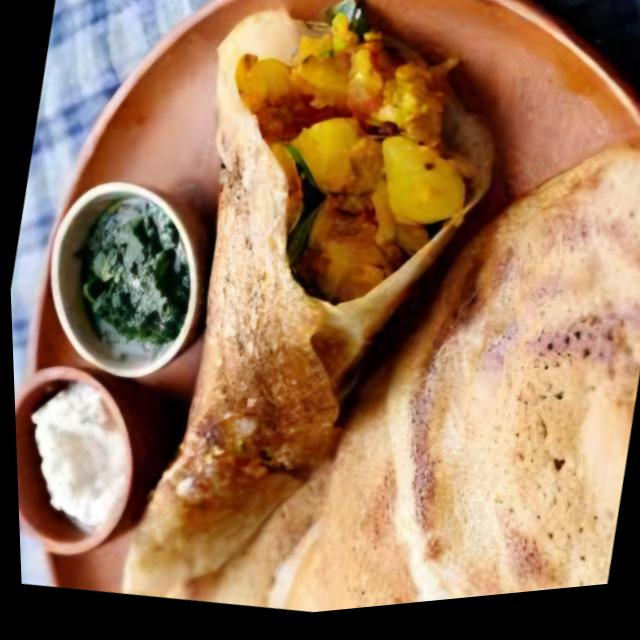CURD: (11, 0, 209, 392), (31, 380, 128, 533)
DOSA: (117, 10, 640, 610)
VEGGIES: (73, 194, 188, 359)
